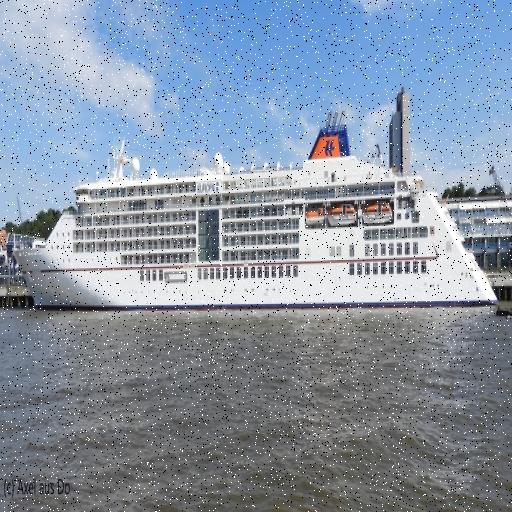cruises: (9, 109, 501, 323)
